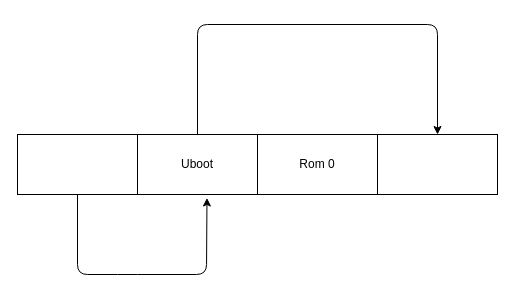
Some shapes in this 515 by 300 pixel diagram are drawn without their labels. Here are the shapes that lost their labels. From the top down, the centre of each, then its label:
the point at 77,164: 分区表
the point at 437,164: Rom 1
